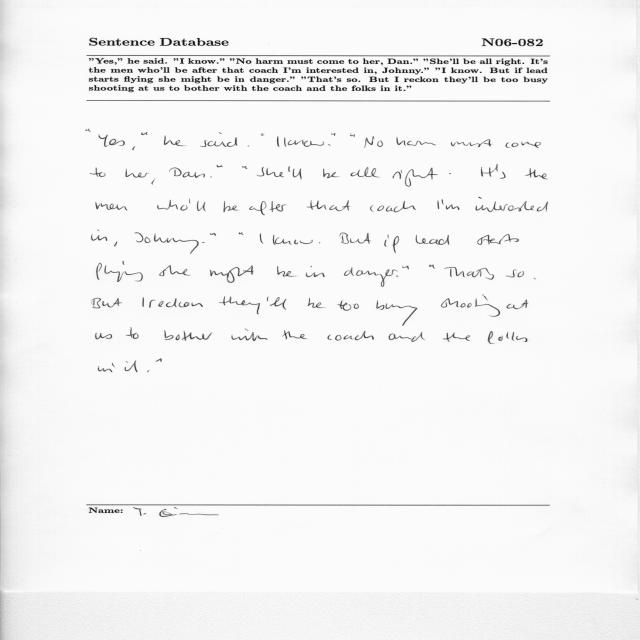word: (134, 232, 199, 254), (441, 295, 500, 317), (376, 300, 418, 326), (476, 197, 548, 212), (344, 267, 398, 287), (97, 261, 143, 282), (393, 168, 438, 187), (210, 265, 254, 283), (219, 296, 260, 314), (467, 268, 517, 280), (200, 132, 237, 147), (149, 298, 203, 308), (164, 330, 213, 341), (487, 331, 528, 344), (249, 201, 287, 215), (370, 201, 416, 212), (307, 200, 350, 211), (327, 331, 374, 341), (477, 234, 519, 245), (232, 329, 268, 341), (284, 137, 324, 147), (273, 235, 313, 245), (169, 167, 205, 178), (388, 332, 425, 342), (397, 137, 437, 146), (340, 233, 372, 244), (159, 265, 191, 276), (98, 134, 125, 147), (483, 164, 506, 179), (157, 200, 188, 211), (416, 235, 449, 245), (451, 140, 492, 148), (92, 298, 122, 308), (351, 167, 380, 177), (96, 202, 128, 211), (384, 235, 399, 254), (257, 167, 284, 177), (525, 168, 548, 179), (267, 297, 286, 310), (506, 142, 541, 149), (443, 333, 470, 342), (364, 136, 383, 148), (282, 330, 307, 339), (337, 301, 359, 311), (125, 169, 149, 178), (164, 136, 185, 146), (277, 266, 296, 277), (189, 199, 206, 211), (445, 267, 465, 277), (442, 199, 460, 210), (306, 266, 324, 277), (288, 166, 302, 180), (507, 300, 528, 309), (92, 230, 108, 241), (224, 201, 239, 212), (308, 298, 324, 308), (323, 169, 340, 178), (98, 363, 115, 372), (90, 167, 105, 177), (126, 328, 139, 339), (125, 361, 138, 372), (96, 333, 112, 339), (517, 271, 524, 277), (277, 136, 280, 147), (260, 233, 263, 244), (402, 266, 409, 270), (429, 265, 436, 269), (350, 133, 355, 137), (481, 167, 483, 177), (142, 297, 144, 307), (142, 132, 148, 135), (437, 200, 439, 209), (210, 233, 216, 236), (156, 359, 162, 362), (86, 129, 91, 132), (152, 180, 155, 185), (242, 166, 247, 169), (114, 242, 117, 247), (239, 232, 244, 235), (132, 147, 135, 151), (332, 133, 336, 136), (217, 165, 223, 167), (261, 133, 264, 136), (328, 144, 331, 146), (247, 145, 249, 147), (147, 370, 149, 372), (202, 242, 205, 243), (210, 177, 212, 178), (449, 173, 451, 174), (534, 278, 536, 279), (319, 242, 320, 243), (402, 266, 403, 266)
